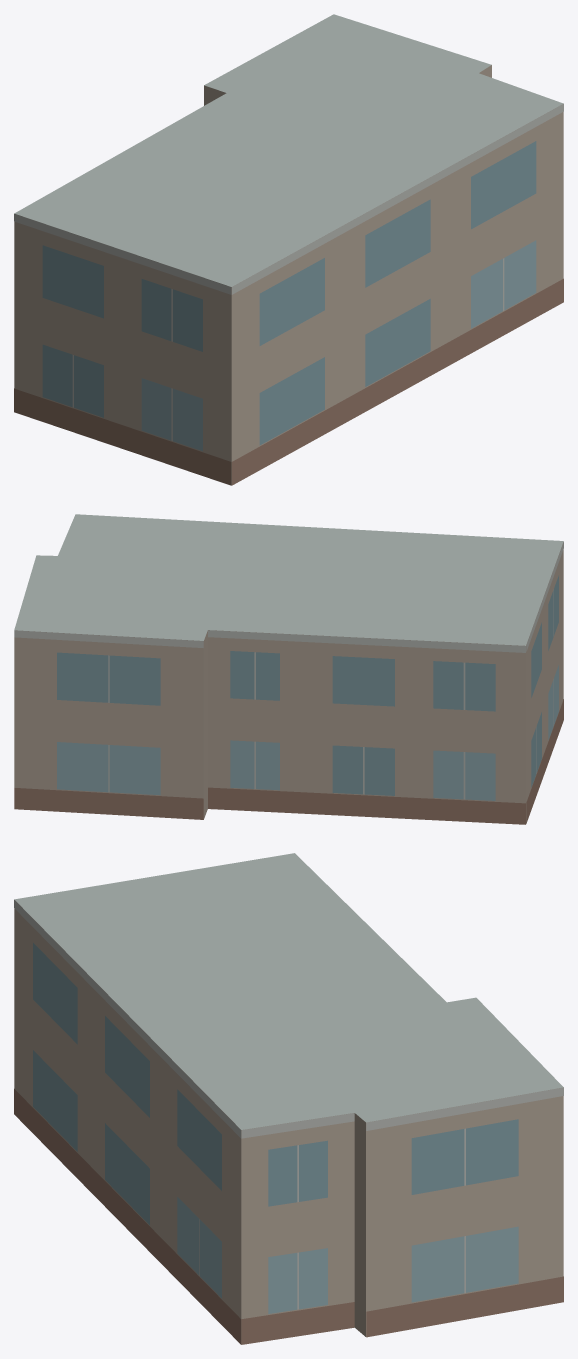
Rendered from survey-upis-32853924.glb.
3 views of the same model, one above another, from view 1: azimuth 30°, elevation 25°; view 2: azimuth 150°, elevation 25°; view 3: azimuth 270°, elevation 25° (orthographic). The views are drawn at different scales.
Parts seen in each view (by area): view 1: survey-upis-32853924.tmp; view 2: survey-upis-32853924.tmp; view 3: survey-upis-32853924.tmp.
Part boxes in pixels (bbox=[...]): survey-upis-32853924.tmp: bbox=[14, 14, 563, 485]; survey-upis-32853924.tmp: bbox=[14, 514, 563, 824]; survey-upis-32853924.tmp: bbox=[14, 853, 563, 1344].
Size of the model in its own units: 16.88 by 6.1 by 14.16.
